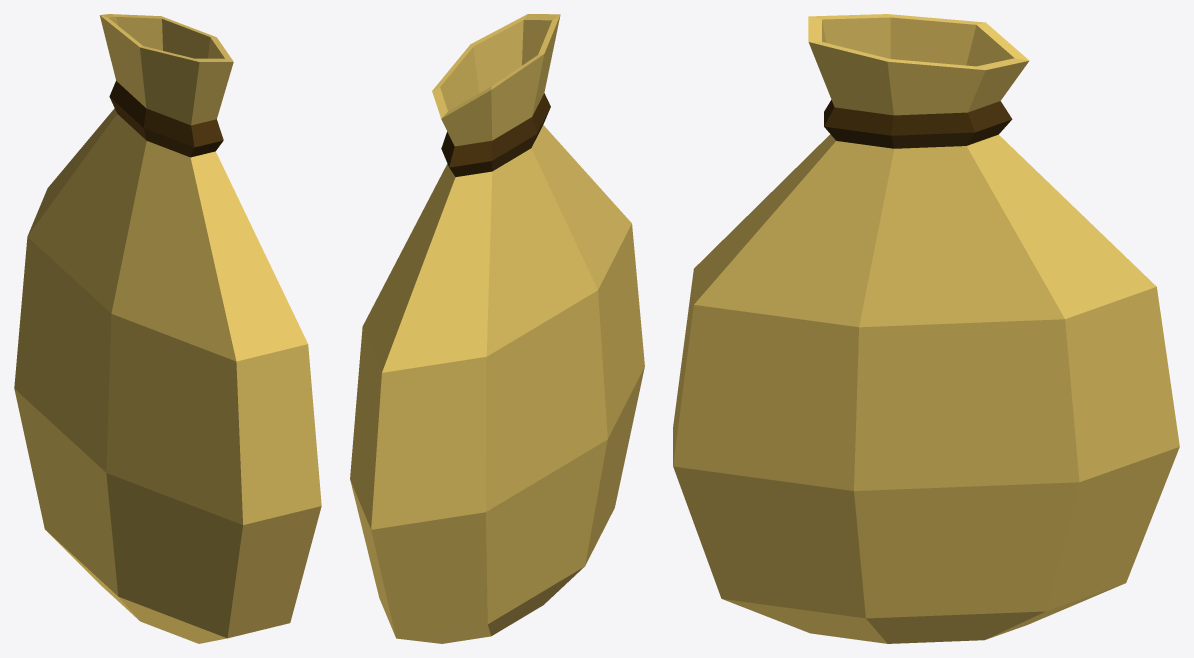
The model's file is FlatFlourSack (1).fbx.
The picture shows the model from 3 angles, left to right: view 1: azimuth 30°, elevation 25°; view 2: azimuth 150°, elevation 25°; view 3: azimuth 270°, elevation 25°; orthographic projection. The views are drawn at different scales.
Parts seen in each view (by area): view 1: Cylinder; view 2: Cylinder; view 3: Cylinder.
Part boxes in pixels (left/top/right/bottom): Cylinder: left=14, top=14, right=321, bottom=643; Cylinder: left=350, top=14, right=644, bottom=643; Cylinder: left=673, top=14, right=1179, bottom=643.
Bounding box in the file's own units: 77.79 × 245 × 188.
